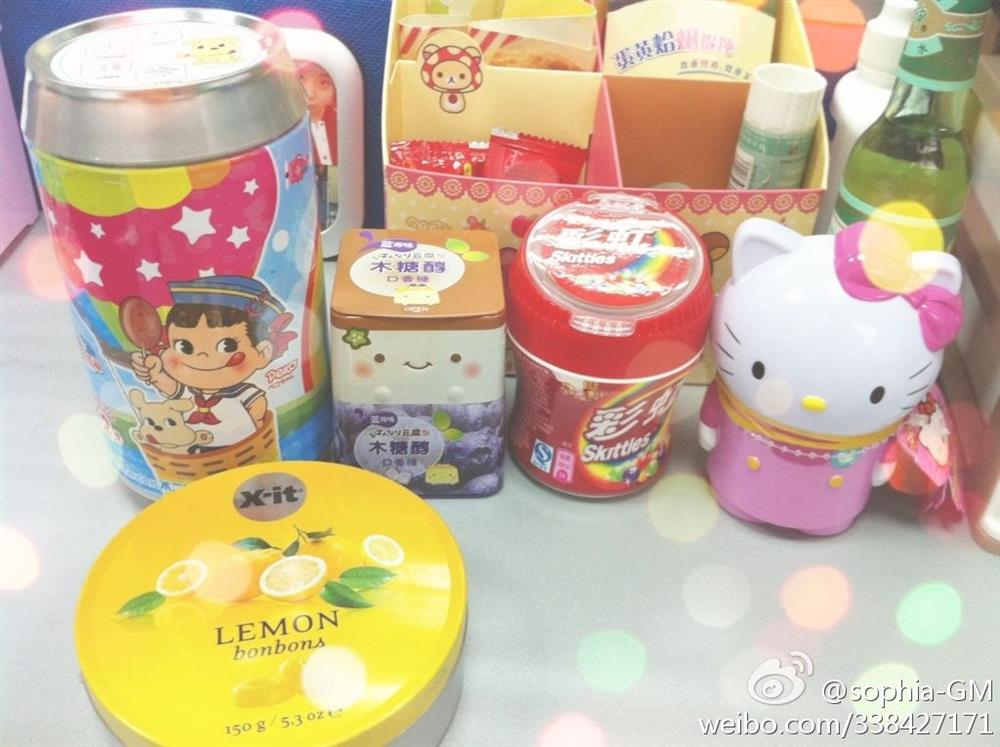FUJIYA: (139, 275, 309, 388)
